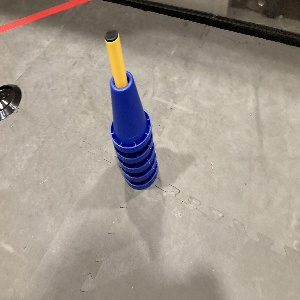Blue_5: (105, 69, 159, 191)
